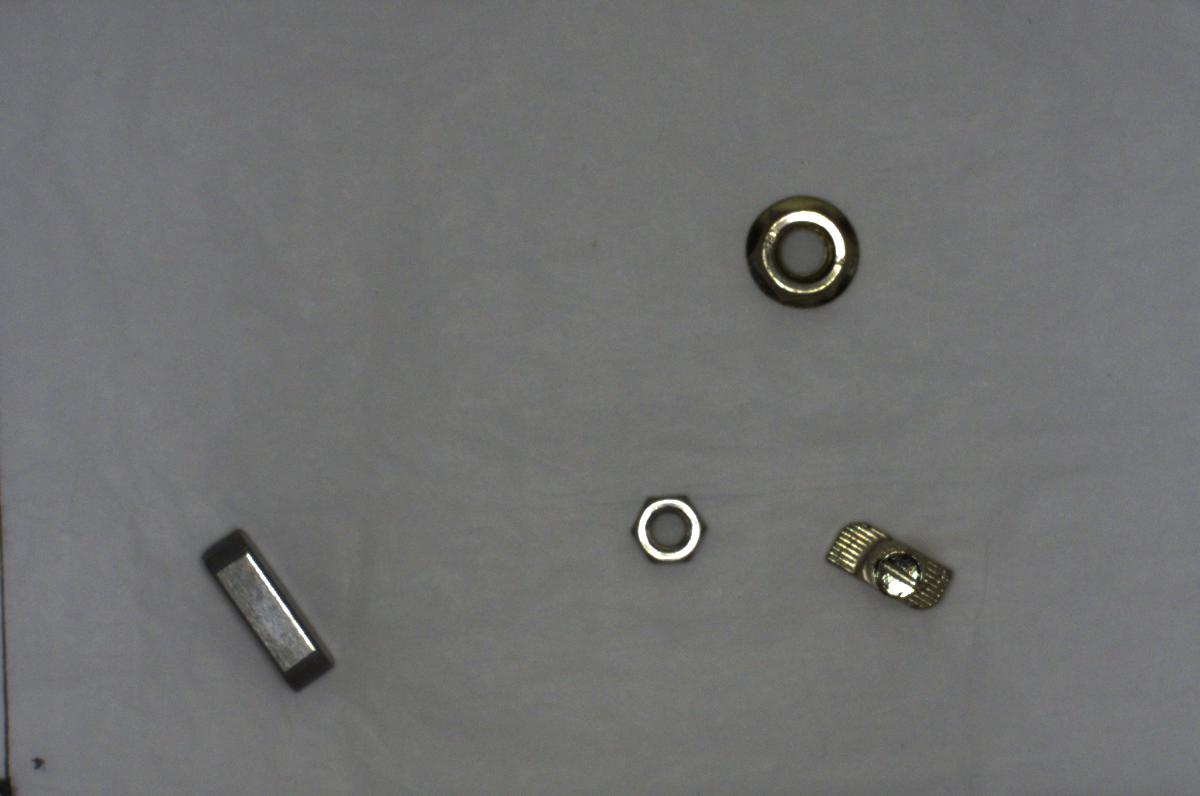Flange nut: (732, 192, 865, 313)
Hexagon nut: (618, 486, 712, 570)
Keybar: (204, 525, 338, 694)
T-shaped screw: (817, 515, 954, 613)
